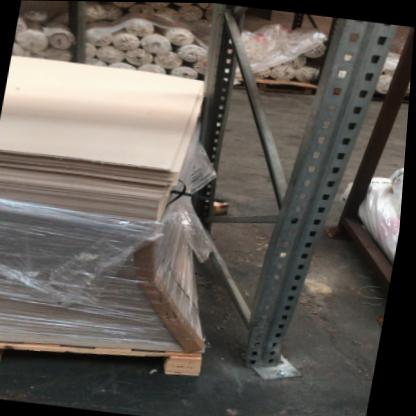vertical_damage: (234, 303, 326, 388)
